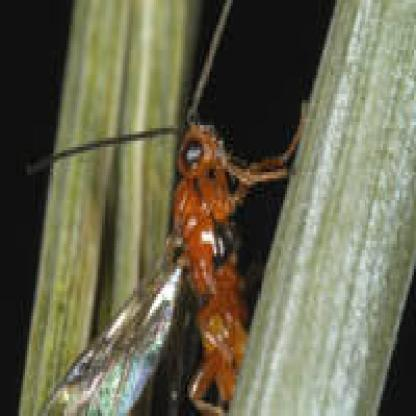sawfly: (38, 0, 309, 416)
